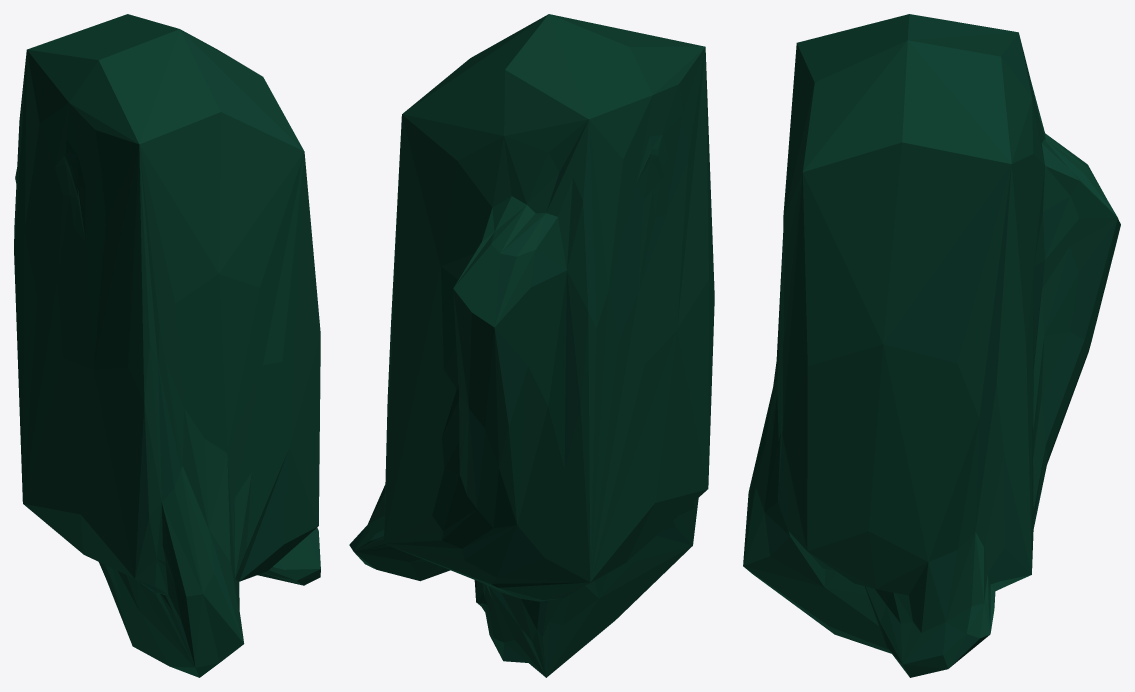
3 renders of one model, left to right at view 1: azimuth 30°, elevation 25°; view 2: azimuth 150°, elevation 25°; view 3: azimuth 270°, elevation 25°, orthographic. The views are drawn at different scales.
Visible parts, largest first — view 1: 271_Cube.1107; view 2: 271_Cube.1107; view 3: 271_Cube.1107.
Boxes of the visible parts, x1,y1,x2,y2 form: 271_Cube.1107: (14,14,320,677); 271_Cube.1107: (349,14,714,677); 271_Cube.1107: (743,14,1120,677).
Size of the model in its own units: 6.56 by 14.72 by 8.17.
